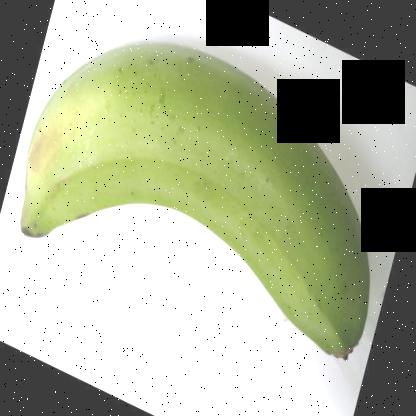freshunripe: (13, 31, 377, 376)
